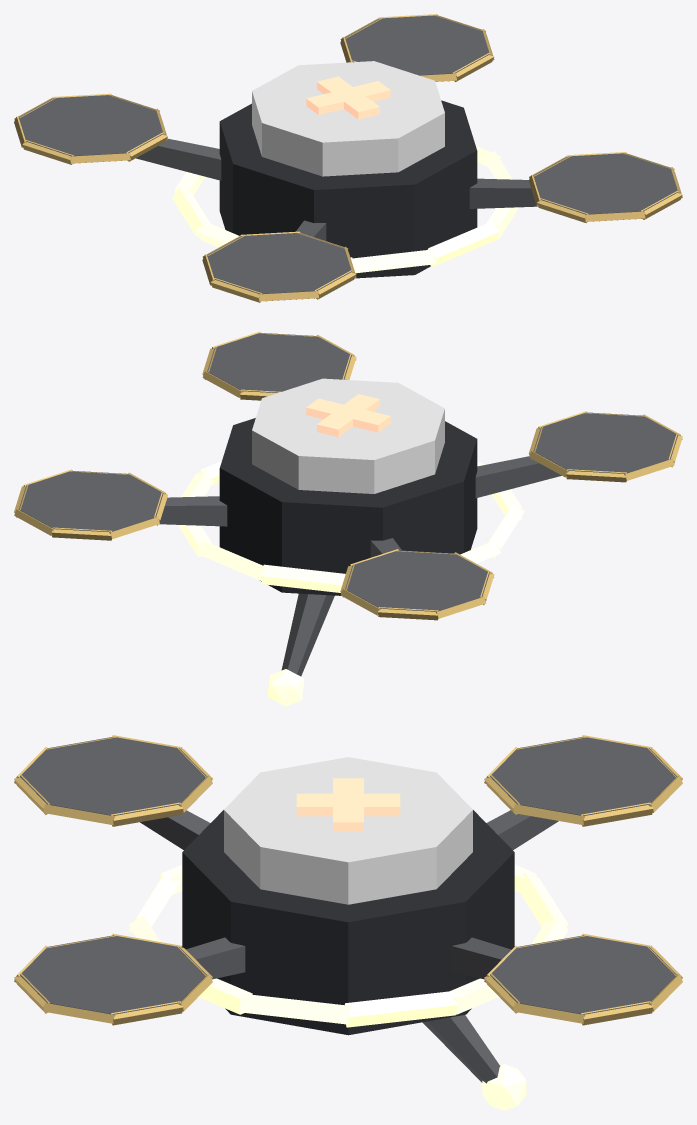
The model's file is Aegis_MedicDrone.fbx.
3 views of the same model, one above another, from view 1: azimuth 30°, elevation 25°; view 2: azimuth 150°, elevation 25°; view 3: azimuth 270°, elevation 25° (orthographic). The views are drawn at different scales.
Parts seen in each view (by area): view 1: MED_Core, MED_Cap, MED_Rotor1, MED_Rotor2, MED_Rotor3, MED_Rotor0, MED_HaloRing, MED_Strut1, MED_RotorRim1, MED_RotorRim2, MED_RotorRim3, MED_Strut3 (+3 smaller); view 2: MED_Core, MED_Cap, MED_Rotor1, MED_Rotor2, MED_Rotor0, MED_Rotor3, MED_HaloRing, MED_Beam, MED_Strut2, MED_RotorRim1, MED_RotorRim0, MED_RotorRim2 (+5 smaller); view 3: MED_Core, MED_Cap, MED_Rotor1, MED_Rotor2, MED_Rotor0, MED_HaloRing, MED_Rotor3, MED_RotorRim1, MED_RotorRim2, MED_RotorRim0, MED_RotorRim3, MED_Beam (+7 smaller).
Part boxes in pixels (x1=…): MED_Core: x1=219, y1=100, x2=477, y2=278; MED_Cap: x1=252, y1=61, x2=444, y2=176; MED_Rotor1: x1=19, y1=95, x2=163, y2=163; MED_Rotor2: x1=207, y1=233, x2=351, y2=301; MED_Rotor3: x1=533, y1=153, x2=677, y2=221; MED_Rotor0: x1=345, y1=15, x2=489, y2=81; MED_HaloRing: x1=172, y1=146, x2=518, y2=273; MED_Strut1: x1=136, y1=138, x2=221, y2=180; MED_RotorRim1: x1=14, y1=93, x2=167, y2=164; MED_RotorRim2: x1=202, y1=231, x2=356, y2=302; MED_RotorRim3: x1=528, y1=152, x2=682, y2=223; MED_Strut3: x1=469, y1=178, x2=537, y2=208; MED_Core: x1=219, y1=418, x2=477, y2=595; MED_Cap: x1=252, y1=378, x2=444, y2=493; MED_Rotor1: x1=345, y1=550, x2=489, y2=611; MED_Rotor2: x1=533, y1=412, x2=677, y2=473; MED_Rotor0: x1=18, y1=470, x2=163, y2=532; MED_Rotor3: x1=207, y1=333, x2=351, y2=392; MED_HaloRing: x1=178, y1=461, x2=524, y2=592; MED_Beam: x1=281, y1=593, x2=334, y2=676; MED_Strut2: x1=475, y1=456, x2=561, y2=498; MED_RotorRim1: x1=340, y1=549, x2=494, y2=620; MED_RotorRim0: x1=14, y1=469, x2=167, y2=540; MED_RotorRim2: x1=528, y1=411, x2=682, y2=482; MED_Core: x1=182, y1=810, x2=514, y2=1035; MED_Cap: x1=224, y1=757, x2=472, y2=904; MED_Rotor1: x1=490, y1=737, x2=676, y2=815; MED_Rotor2: x1=20, y1=737, x2=206, y2=815; MED_Rotor0: x1=490, y1=935, x2=676, y2=1014; MED_HaloRing: x1=128, y1=864, x2=568, y2=1027; MED_Rotor3: x1=20, y1=935, x2=206, y2=1014; MED_RotorRim1: x1=484, y1=735, x2=682, y2=826; MED_RotorRim2: x1=14, y1=735, x2=212, y2=826; MED_RotorRim0: x1=484, y1=933, x2=682, y2=1025; MED_RotorRim3: x1=14, y1=933, x2=212, y2=1025; MED_Beam: x1=422, y1=1015, x2=500, y2=1083.
Size of the model in its own units: 0.6441 by 0.33 by 0.6441.
